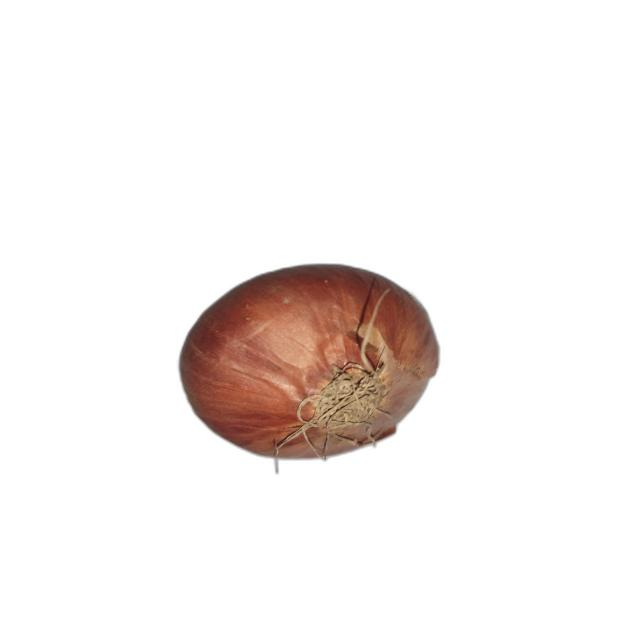onion: (175, 262, 443, 474)
